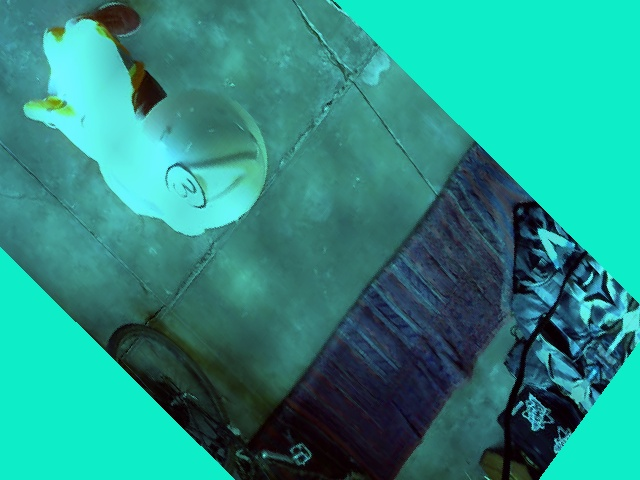three: (157, 157, 214, 221)
